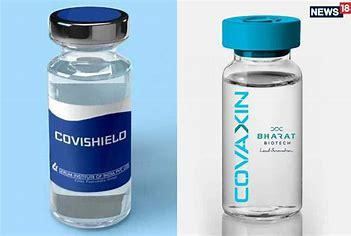Syringe: (39, 3, 141, 230), (210, 9, 308, 226)
